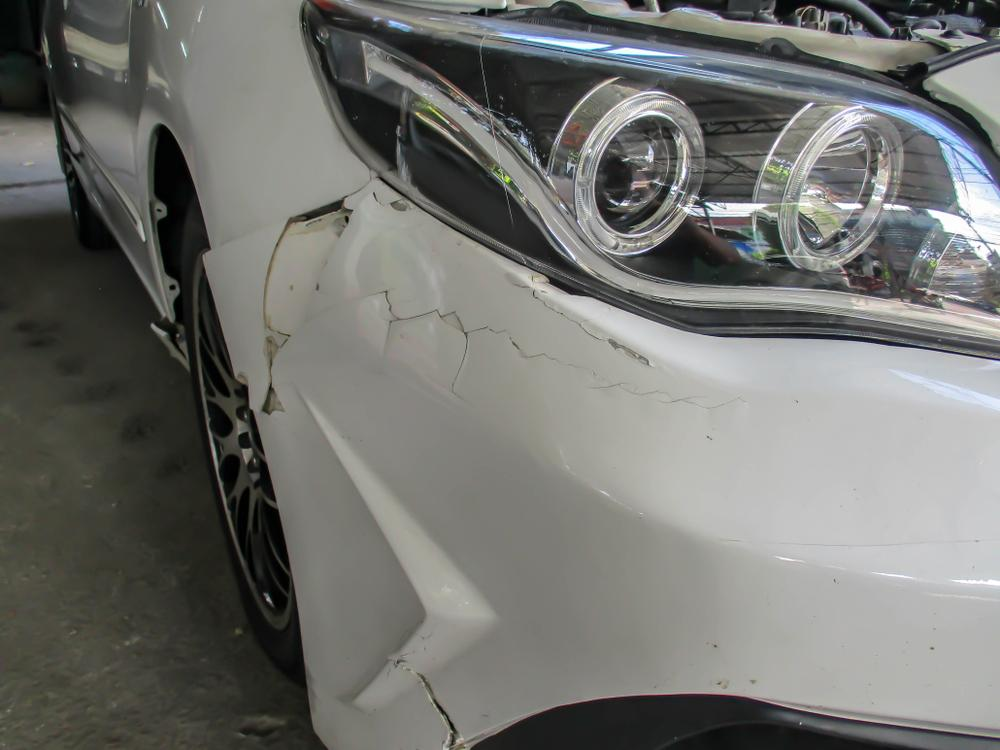crack: (358, 290, 742, 411), (261, 199, 354, 418), (516, 283, 655, 367), (392, 656, 463, 750)
